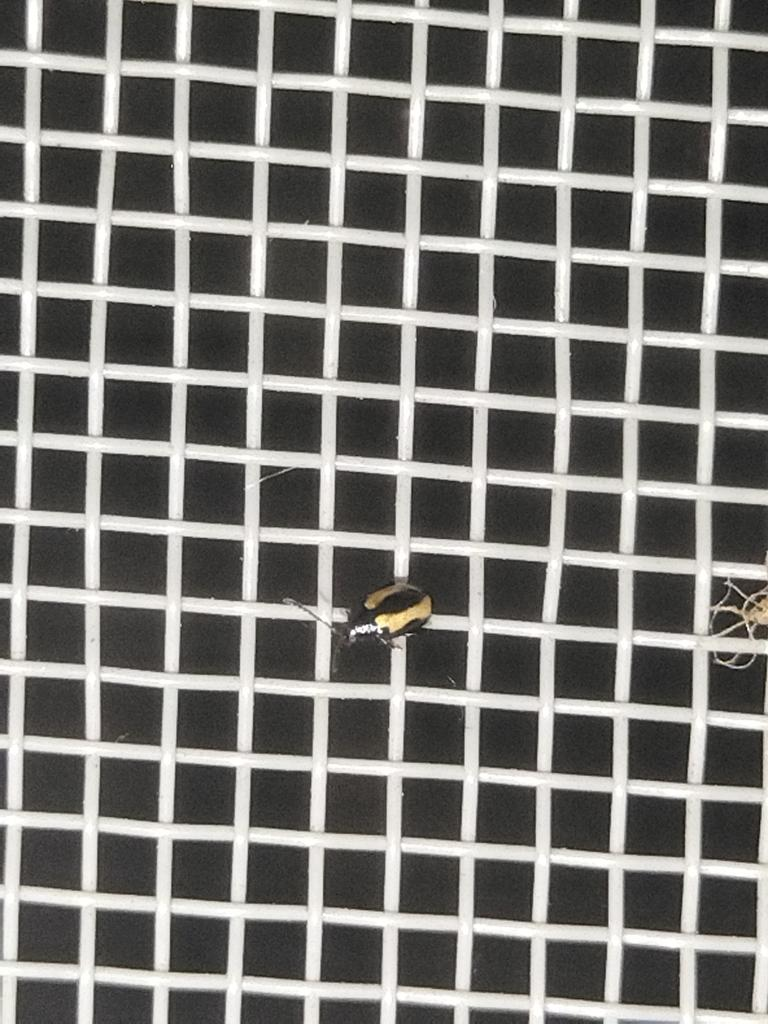flea_beetle: (264, 556, 461, 693)
